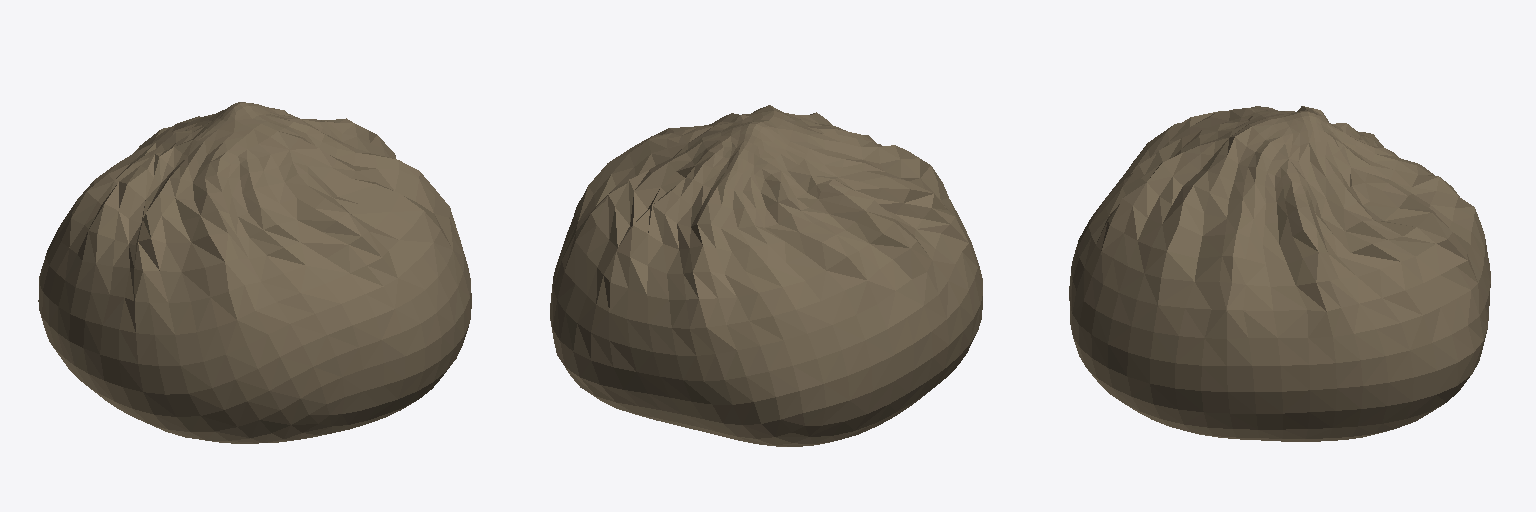
Rendered from steambun.obj.
3 views of the same model, side by side, from view 1: azimuth 30°, elevation 25°; view 2: azimuth 150°, elevation 25°; view 3: azimuth 270°, elevation 25° (orthographic).
Bounding box in the file's own units: 2.03 × 1.5 × 2.01.